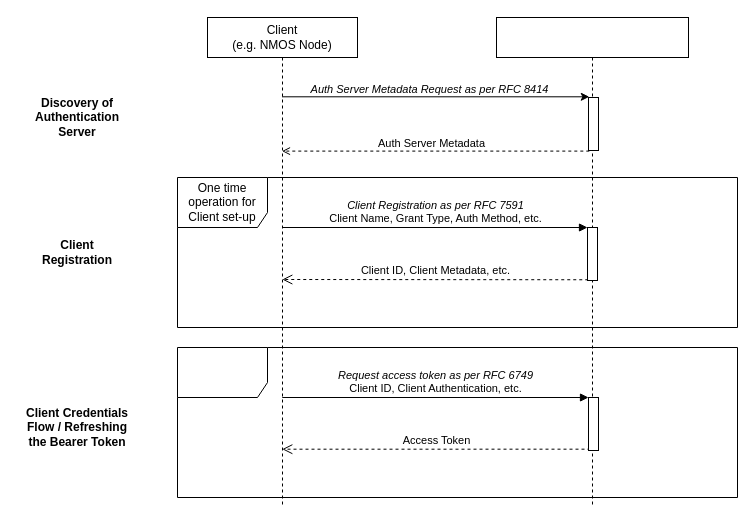
The diagram is 755 pixels wide and 525 high, and some of its shapes have lost their labels. Each missing label, with the centre of its shape:
"Authorization Server" goes at point (592, 262).
"Loop at half-life of Access Token" goes at point (457, 422).
